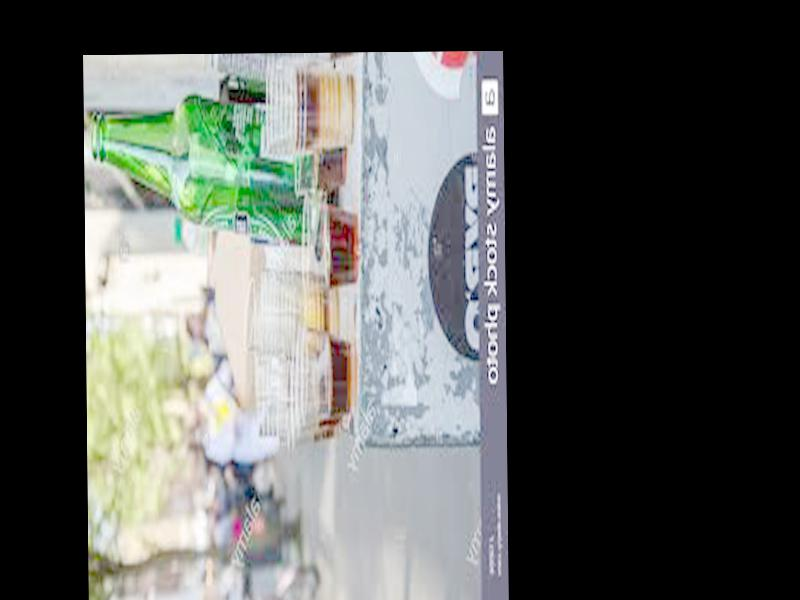Beer: (91, 90, 333, 251)
